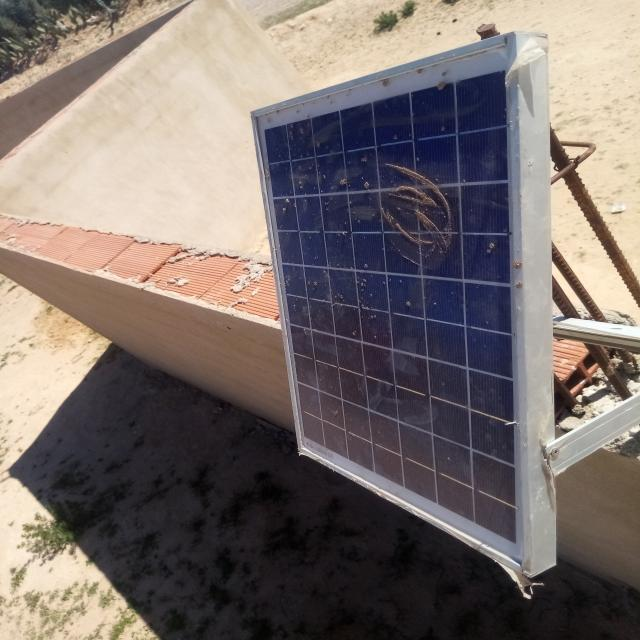faulty: (254, 38, 527, 571)
